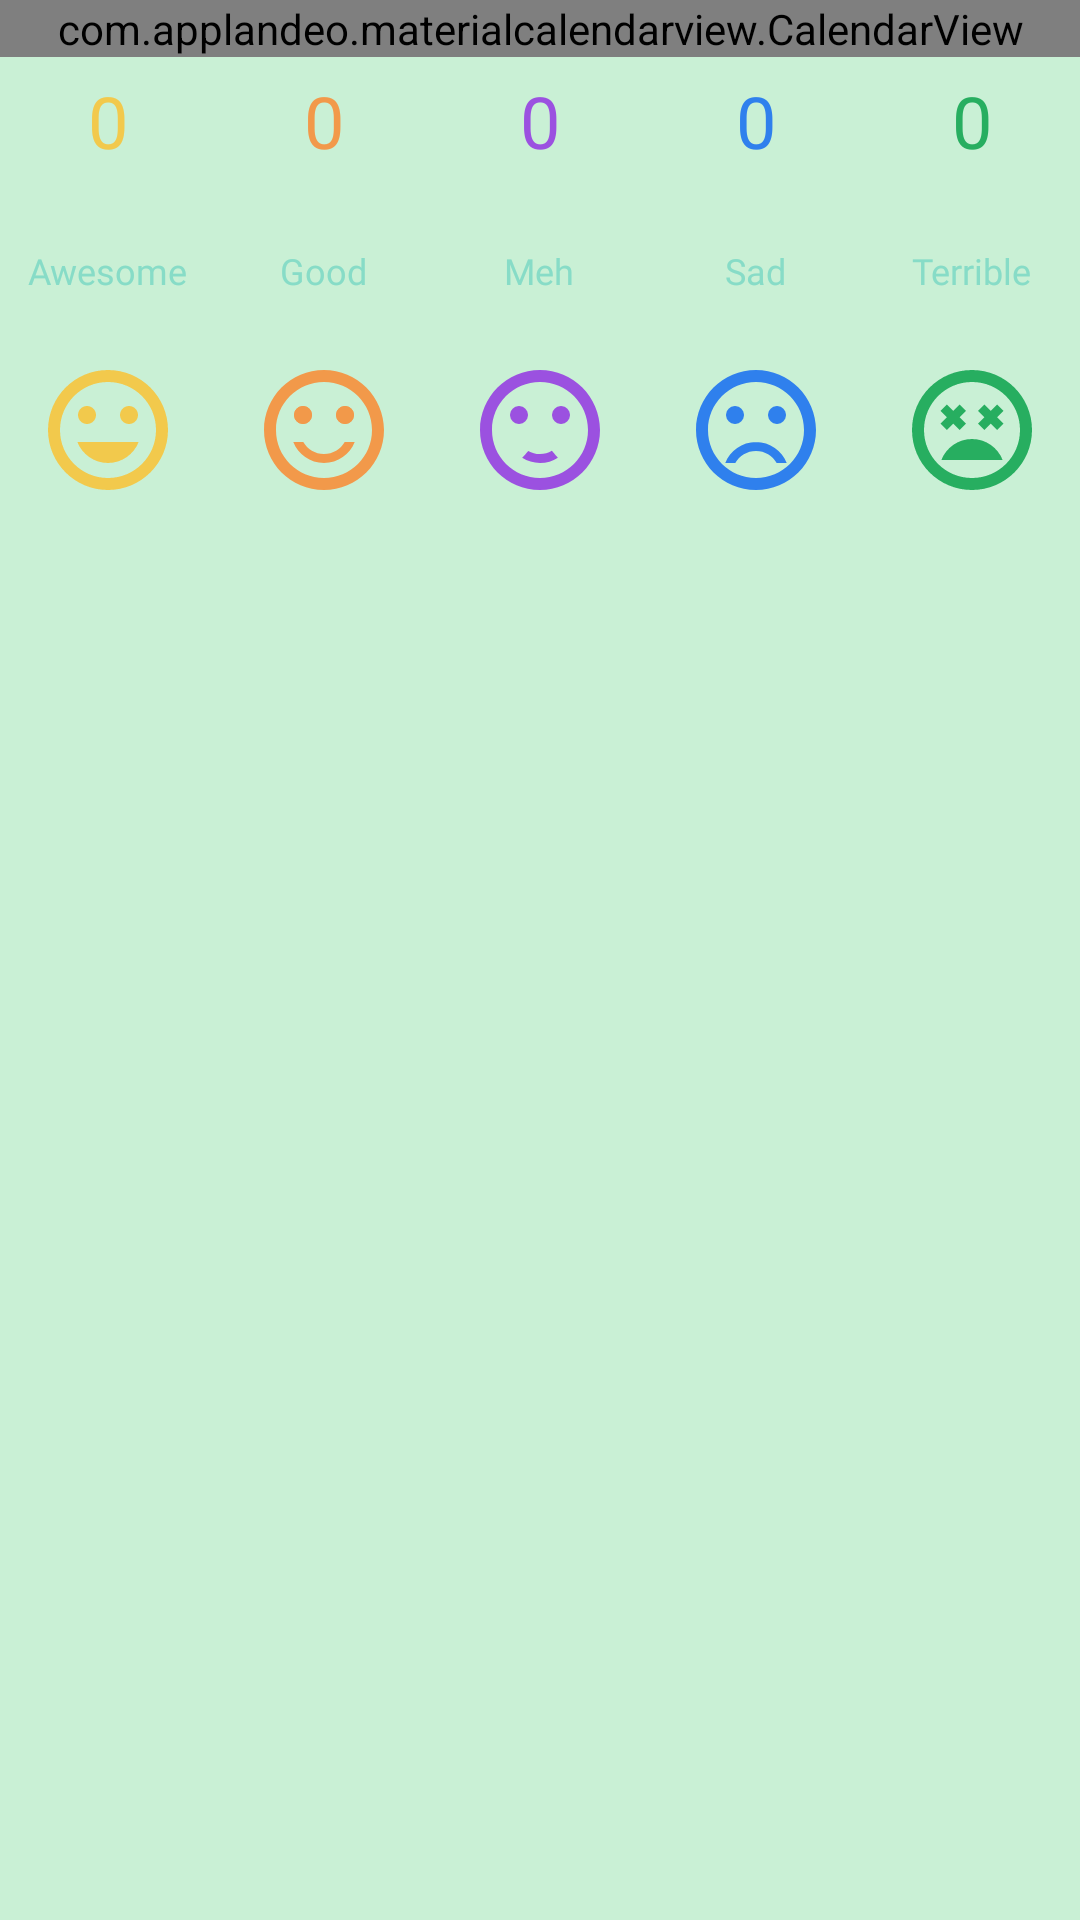

Screen size 1080px×1920px. Icon name, then its box in pixels as [x1=x1, y1=y1, x2=x2, y2=y2]:
mood meh: [x1=480, y1=370, x2=600, y2=490]
mood sad: [x1=696, y1=370, x2=816, y2=490]
